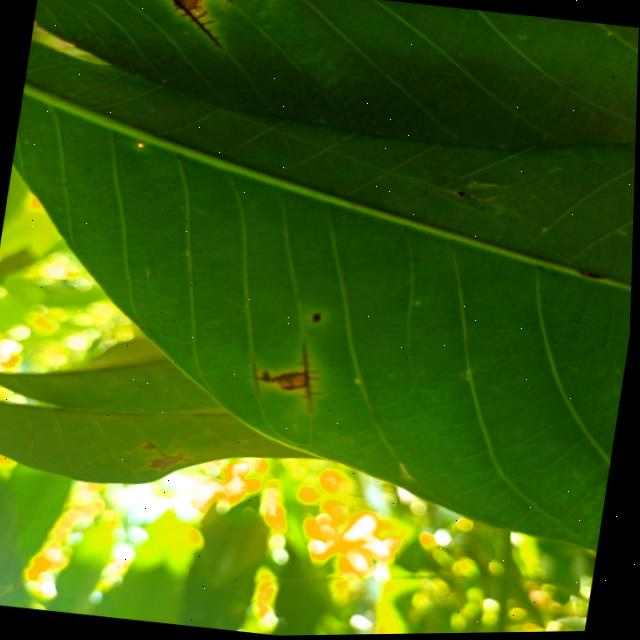Colletotrichum: (314, 314, 323, 323)
Corynespora: (248, 336, 329, 416)
